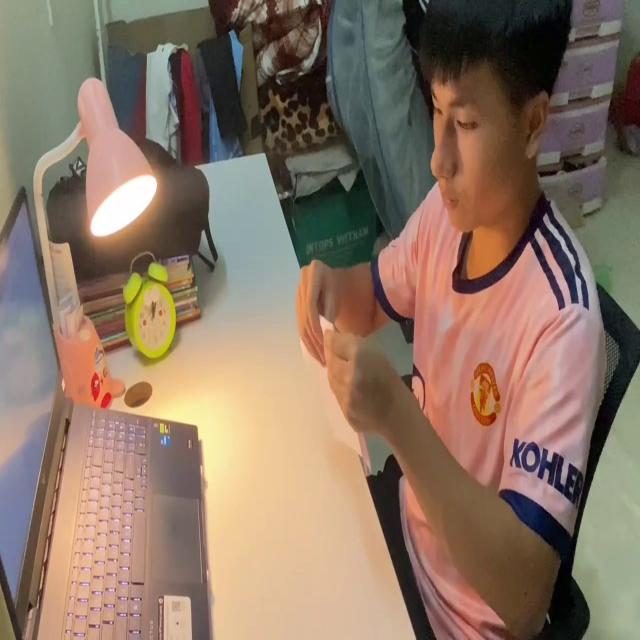book: (296, 294, 376, 474)
laptop: (0, 183, 217, 640)
student: (293, 0, 606, 627)
